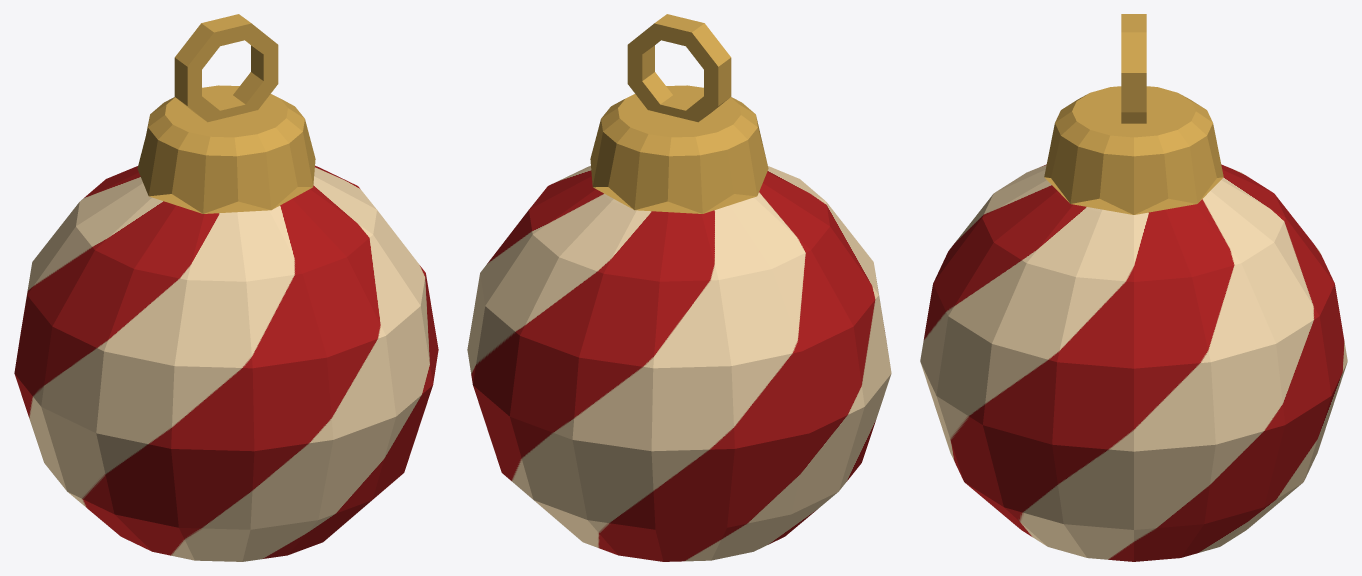
Rendered from 23_Striped_Bauble.glb.
The picture shows the model from 3 angles, left to right: view 1: azimuth 30°, elevation 25°; view 2: azimuth 150°, elevation 25°; view 3: azimuth 270°, elevation 25°; orthographic projection.
Visible parts, largest first — view 1: 23_Striped_Bauble, 23_Striped_Bauble_Gold; view 2: 23_Striped_Bauble, 23_Striped_Bauble_Gold; view 3: 23_Striped_Bauble, 23_Striped_Bauble_Gold.
Part boxes in pixels (x1=…): 23_Striped_Bauble: x1=14, y1=165, x2=438, y2=561; 23_Striped_Bauble_Gold: x1=137, y1=14, x2=315, y2=213; 23_Striped_Bauble: x1=467, y1=165, x2=891, y2=561; 23_Striped_Bauble_Gold: x1=590, y1=14, x2=768, y2=213; 23_Striped_Bauble: x1=920, y1=164, x2=1347, y2=561; 23_Striped_Bauble_Gold: x1=1044, y1=14, x2=1223, y2=214.
Bounding box in the file's own units: 2 × 2.69 × 2.
Materials: 2 (1 with a texture image).
